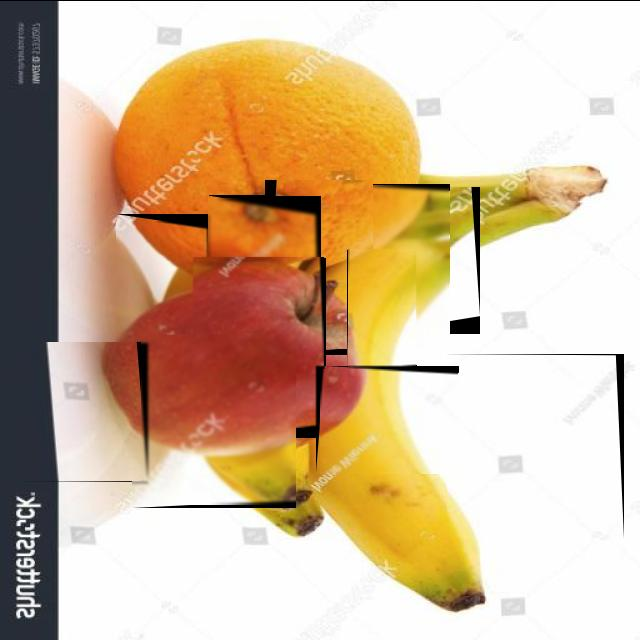Apple: (447, 353, 621, 537), (321, 368, 458, 472)
Banana: (194, 256, 324, 427), (331, 184, 449, 348), (209, 197, 320, 353), (273, 180, 373, 348), (370, 186, 477, 320), (117, 220, 208, 360), (348, 248, 416, 368)
Orange: (132, 334, 296, 503), (15, 341, 141, 480)
